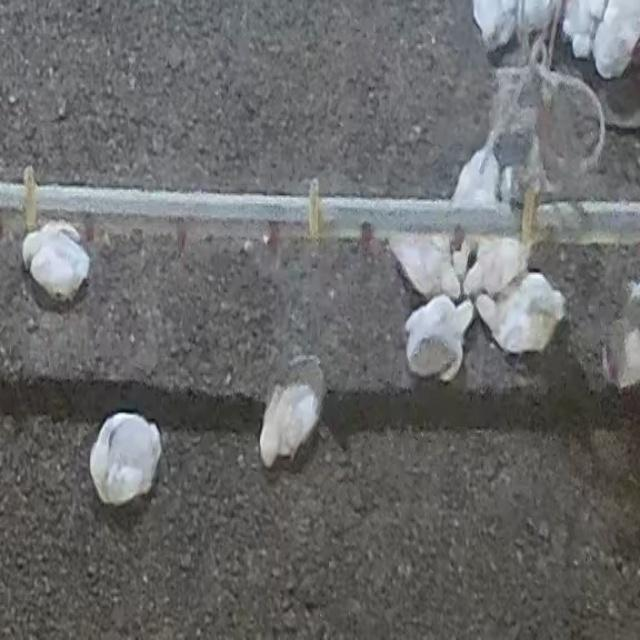chicken: (473, 268, 565, 356), (257, 354, 327, 468), (86, 414, 161, 508), (20, 223, 93, 306), (405, 300, 474, 382), (387, 228, 463, 301), (602, 279, 640, 394), (459, 239, 533, 297), (469, 0, 534, 54), (456, 135, 506, 201), (596, 0, 640, 74), (561, 0, 604, 62)
